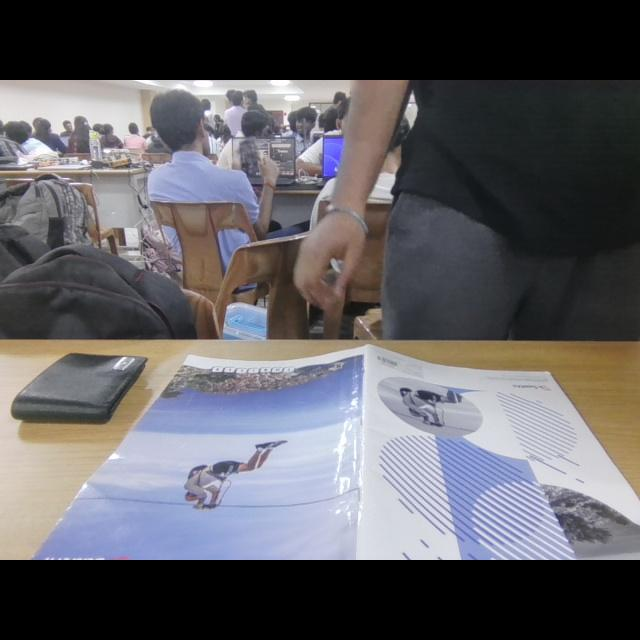wallet: (10, 344, 150, 438)
